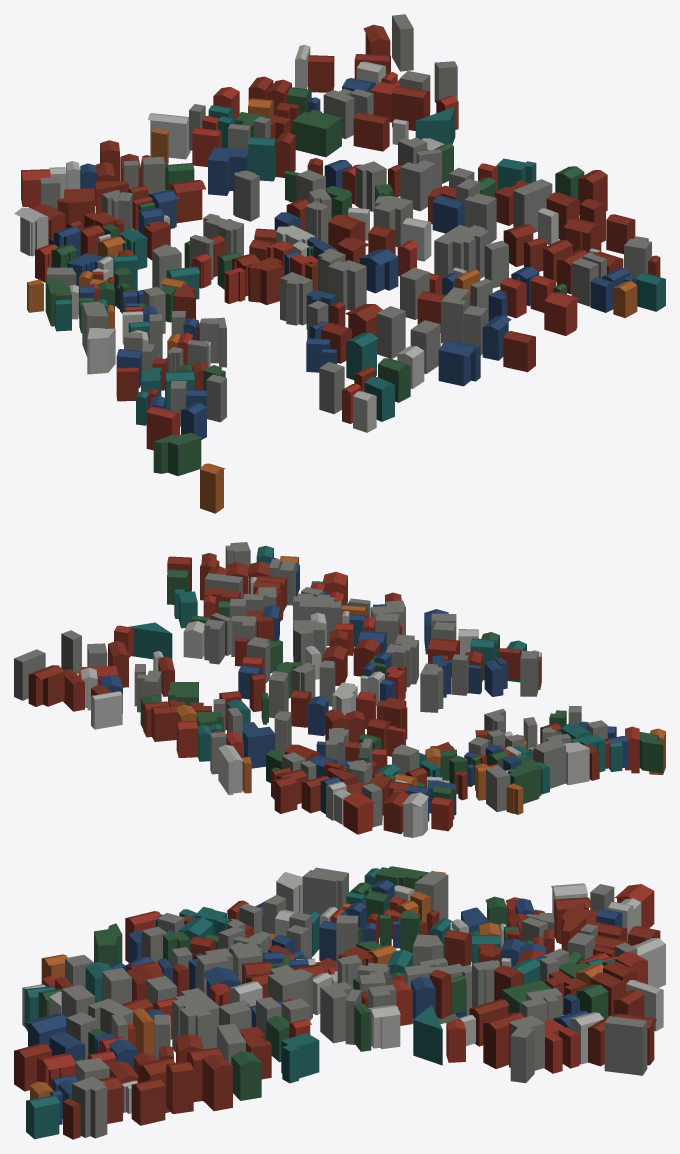
File: near-17-109446-59482.17010db1.glb
3 views of the same model, one above another, from view 1: azimuth 30°, elevation 25°; view 2: azimuth 150°, elevation 25°; view 3: azimuth 270°, elevation 25° (orthographic). The views are drawn at different scales.
Size of the model in its own units: 311 by 119 by 306.
